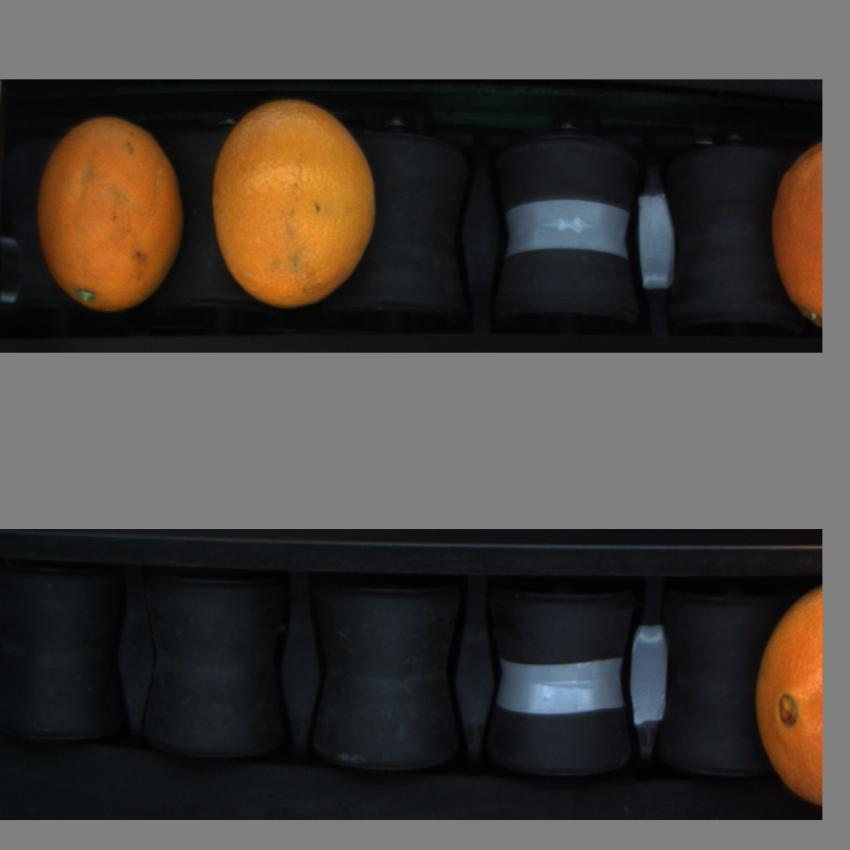Buen estado: (207, 94, 384, 312), (28, 111, 192, 325), (749, 572, 824, 819)
Mal estado: (762, 135, 825, 334)
